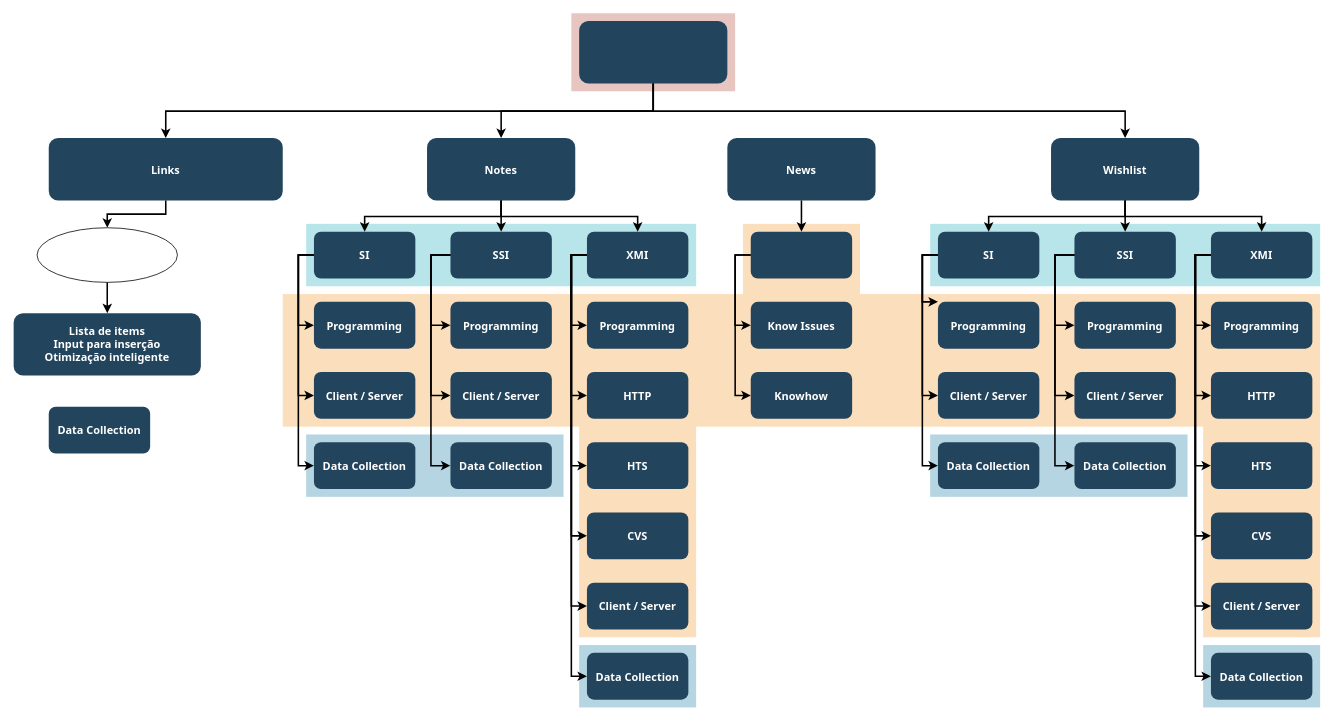
This 1333x721 diagram has some shape labels left out. The shapes that lost their labels are listed below. From the top down, each one's centre as x and y in pixels, then its label:
point (653, 52): PersonalGroup
point (106, 254): Exibição e inserção de links
point (801, 254): FAQ
